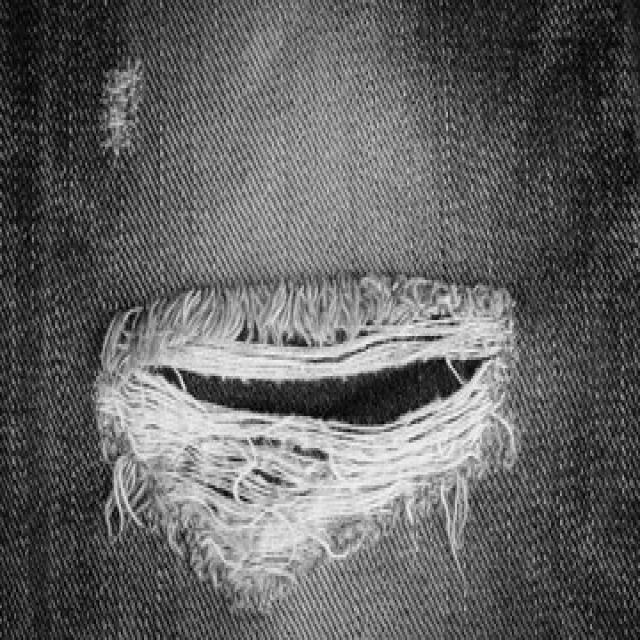Hole: (96, 275, 517, 608), (101, 59, 142, 156)
